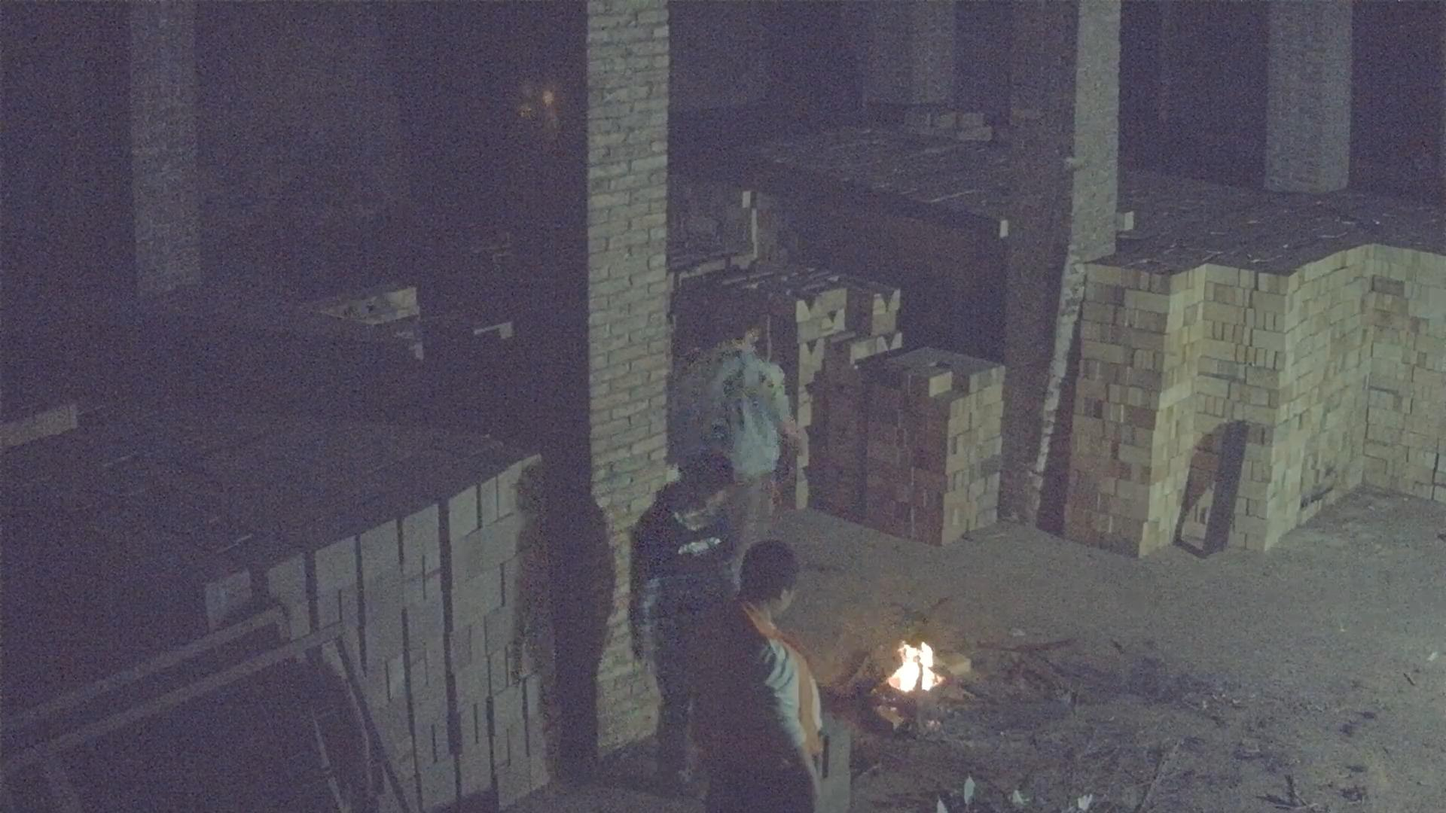fire: (886, 643, 943, 693)
